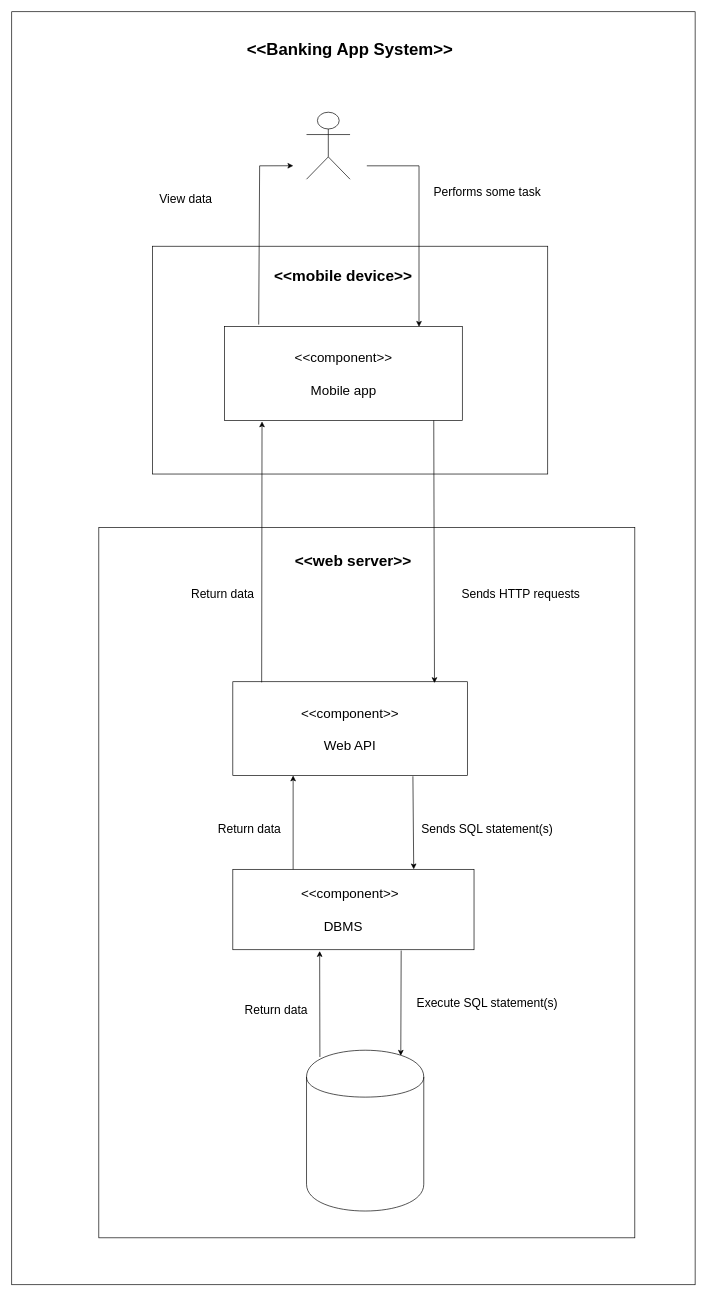
This 707x1296 diagram has some shape labels left out. Each missing label, with the box of its shape:
<<component>> Database: (306, 1050, 424, 1211)
User: (306, 112, 350, 179)
